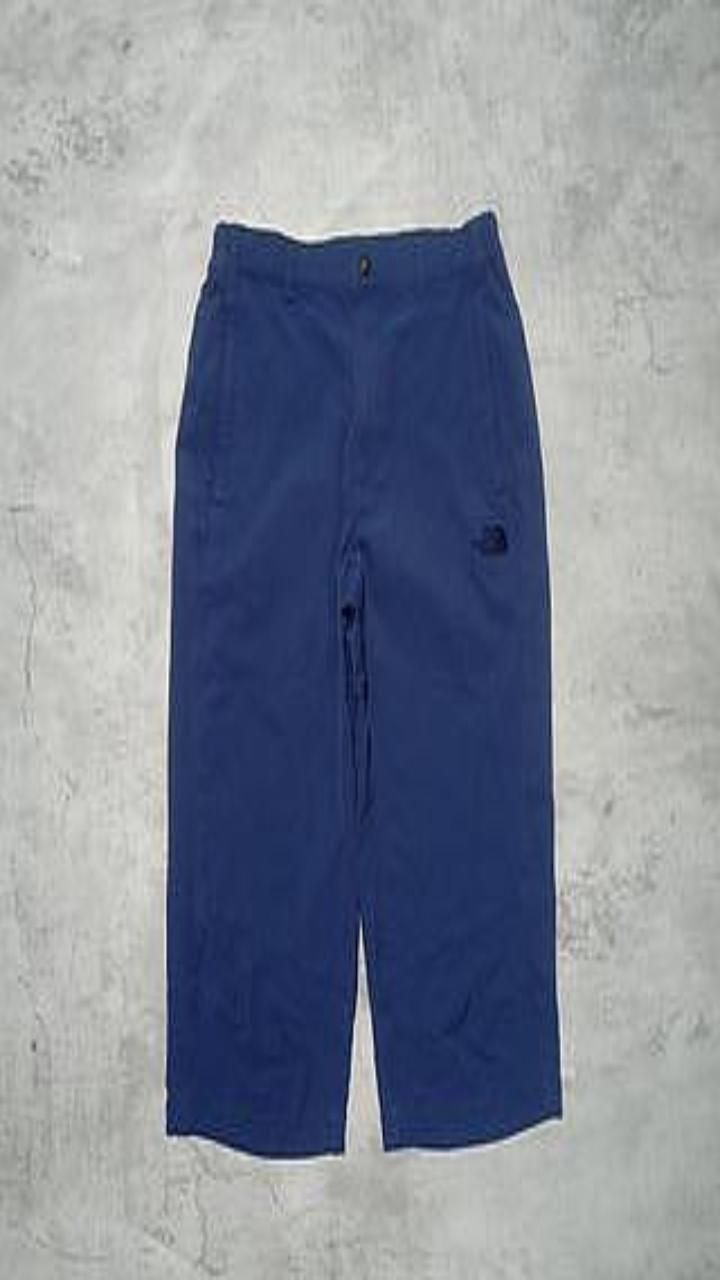Shorts: (166, 210, 561, 1156)
